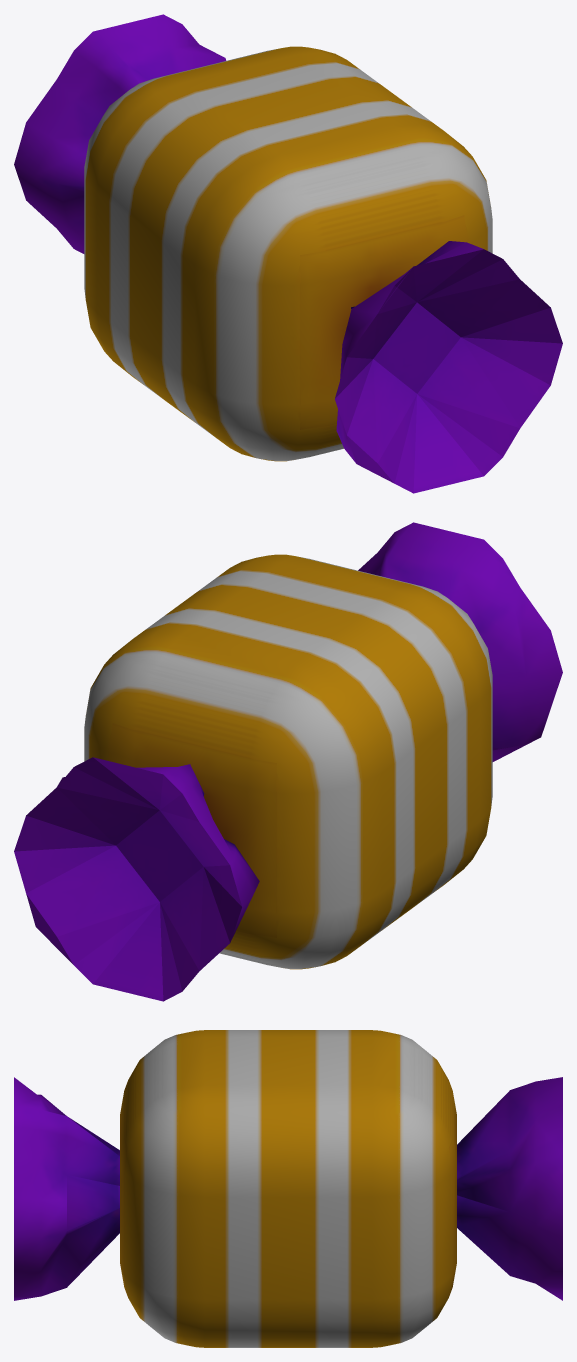
File: Bombon.glb
3 views of the same model, one above another, from view 1: azimuth 30°, elevation 25°; view 2: azimuth 150°, elevation 25°; view 3: azimuth 270°, elevation 25° (orthographic). The views are drawn at different scales.
Parts seen in each view (by area): view 1: geometry_0; view 2: geometry_0; view 3: geometry_0.
Boxes of the visible parts, bbox=[...] form: geometry_0: bbox=[14, 14, 562, 493]; geometry_0: bbox=[14, 522, 562, 1001]; geometry_0: bbox=[14, 1030, 562, 1347].
Bounding box in the file's own units: 2 × 2 × 3.89.
1 material, 1 textured.
